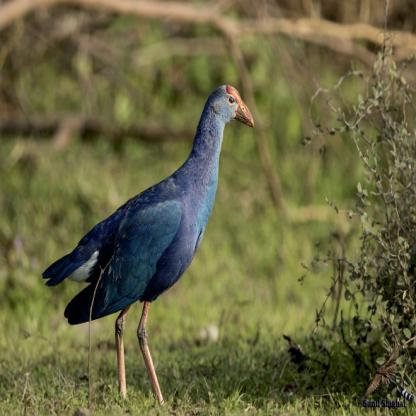Burung: (43, 86, 256, 405)
